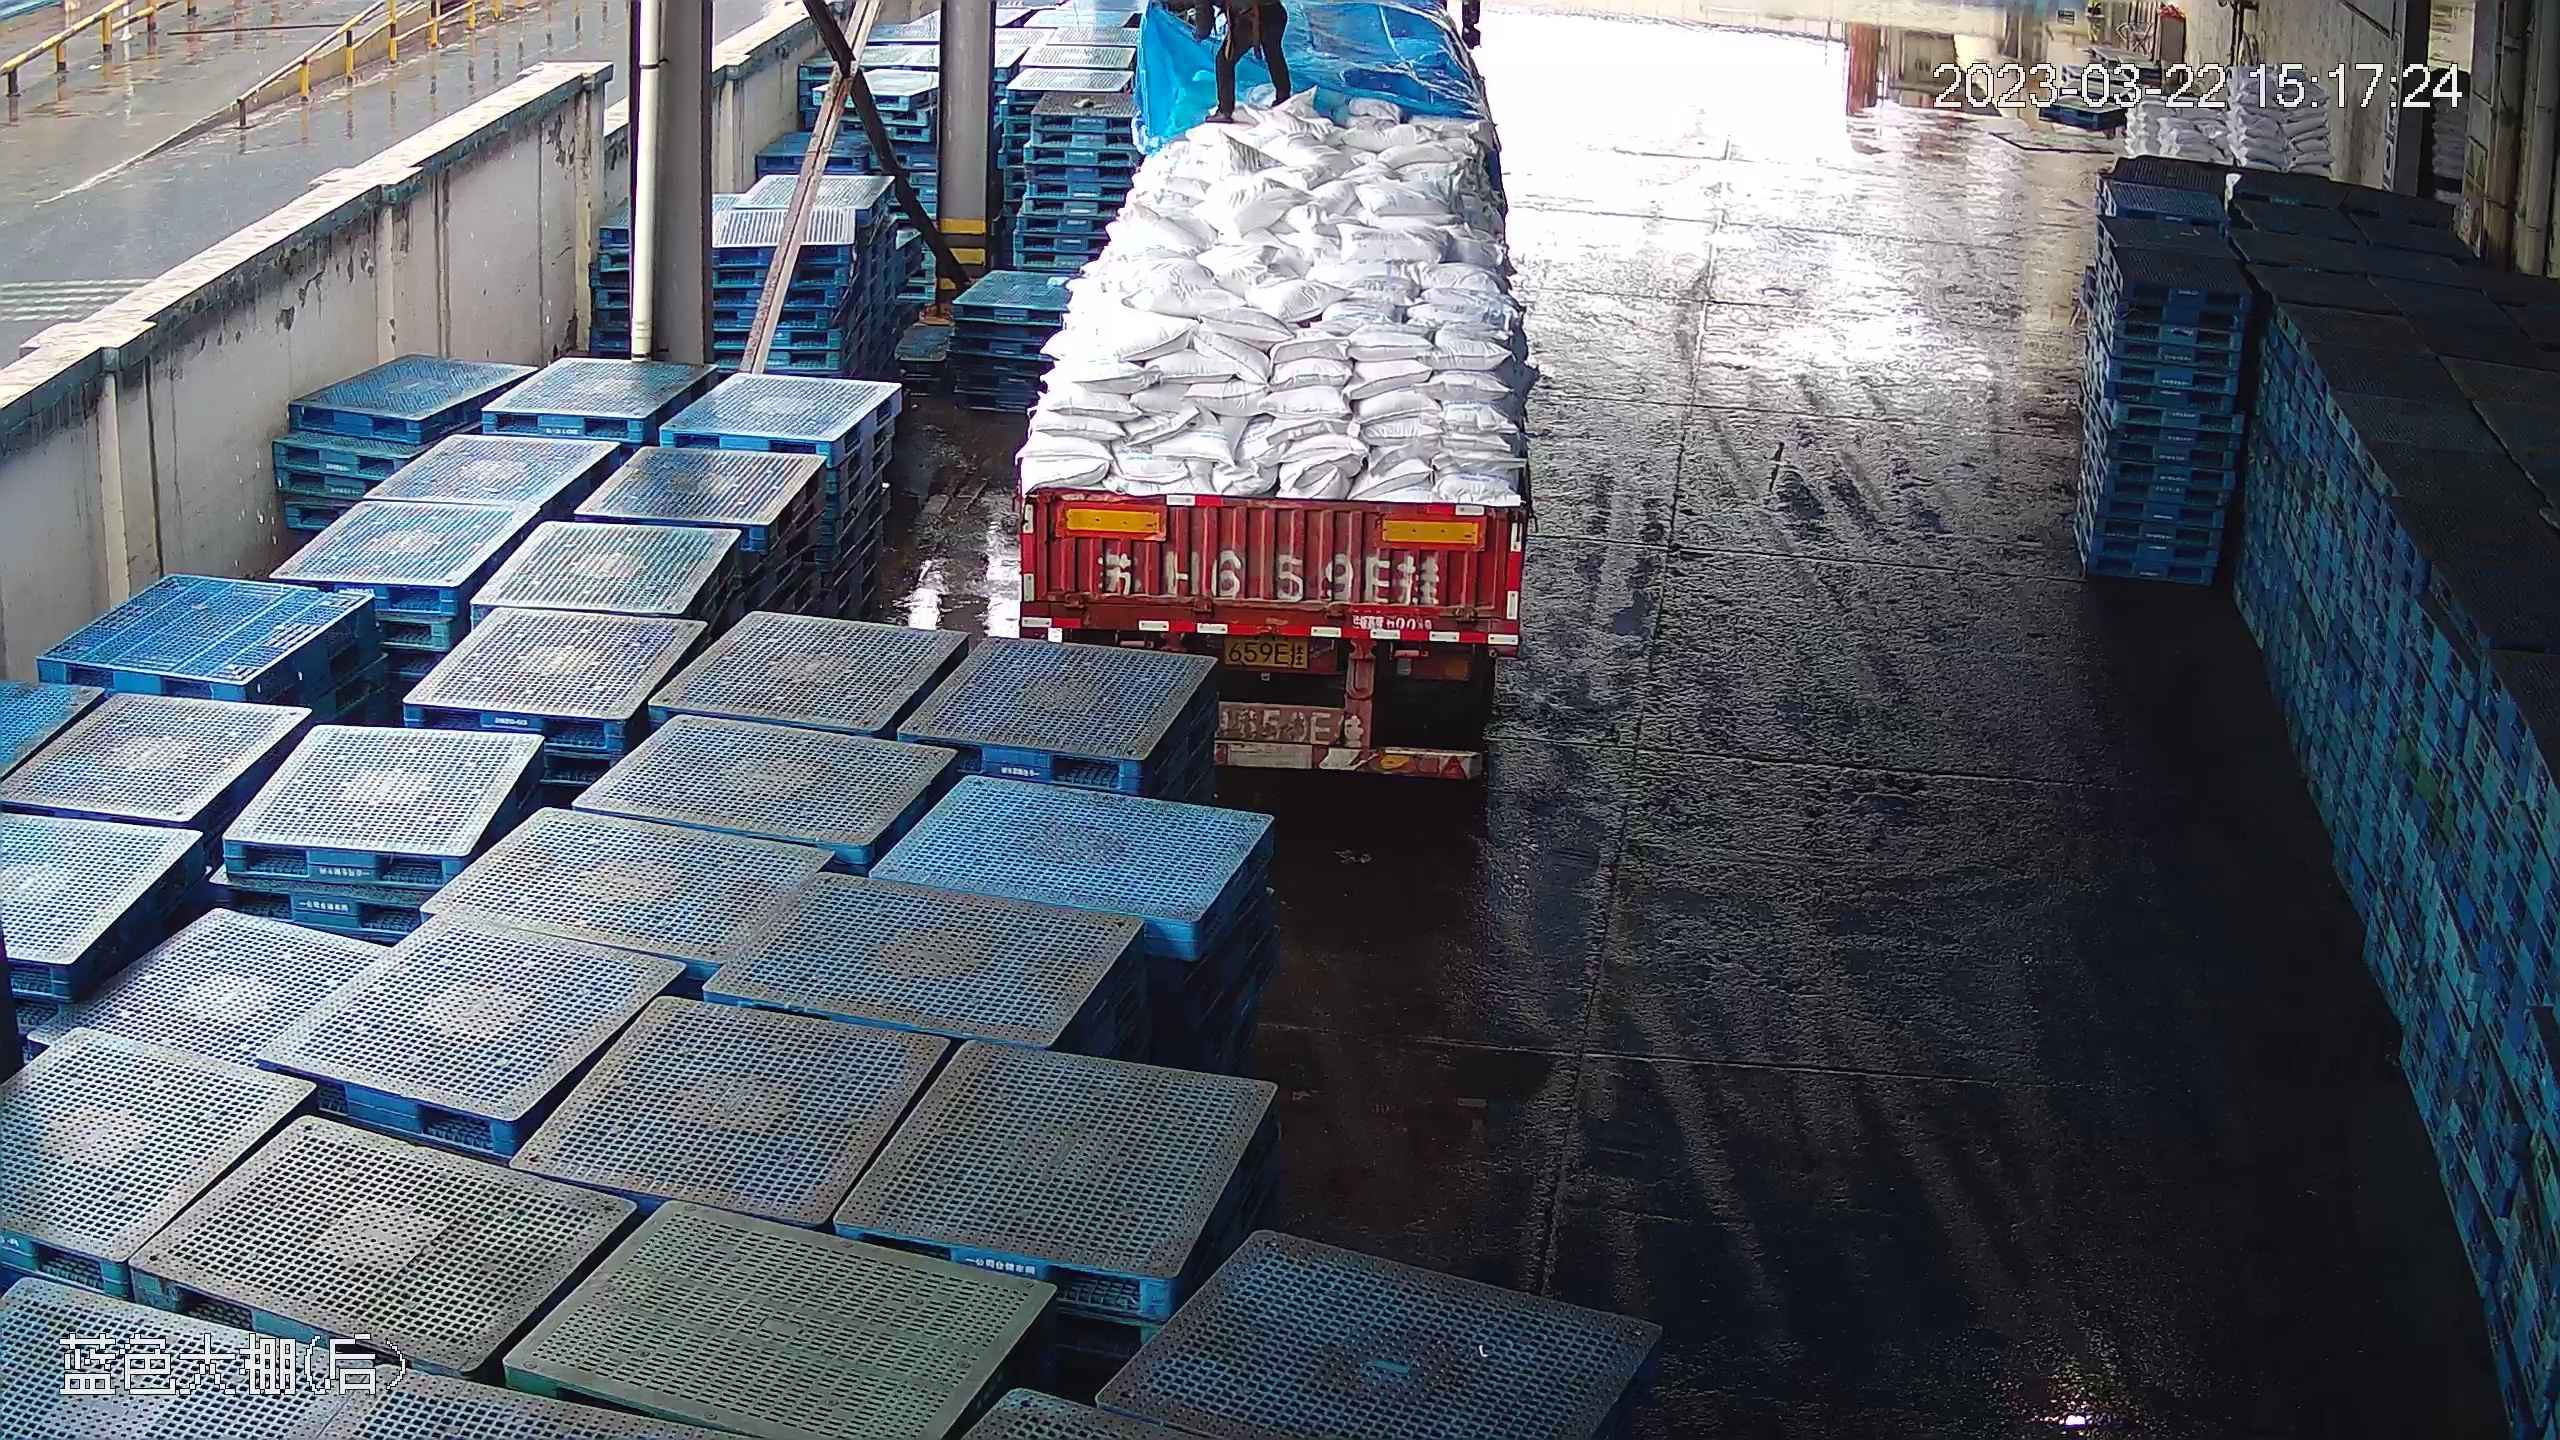belt: (1217, 2, 1264, 62)
people: (1202, 1, 1300, 122)
truck: (998, 10, 1545, 793)
